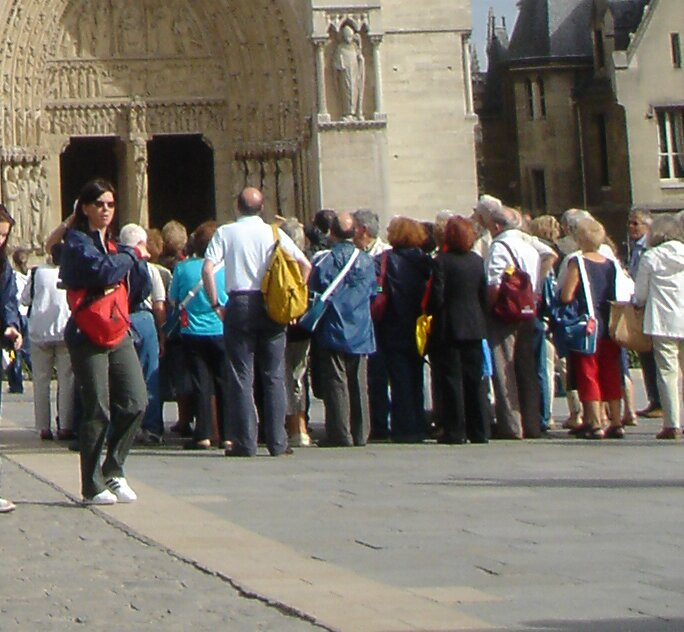person: (52, 173, 156, 514), (634, 207, 684, 445)
